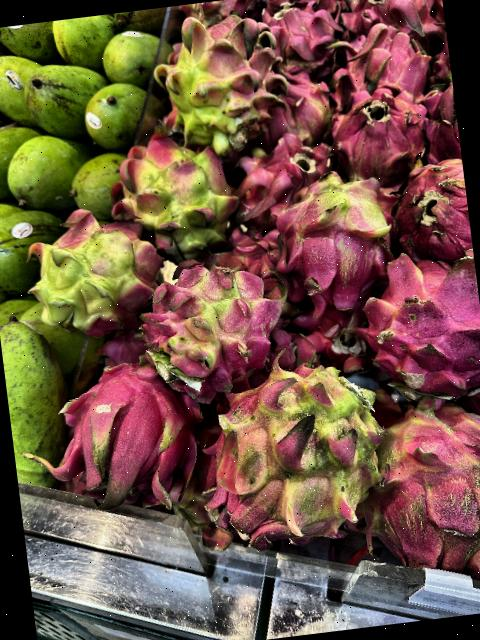buah-naga-belum-matang: (182, 341, 404, 566), (124, 232, 293, 391), (358, 384, 480, 587), (153, 7, 294, 149), (15, 204, 168, 332), (276, 162, 398, 306), (104, 128, 238, 257), (262, 67, 333, 148)
buah-naga-matang: (49, 350, 202, 512), (350, 238, 480, 406), (324, 73, 436, 188), (223, 124, 343, 219), (384, 149, 474, 267), (257, 0, 346, 84), (330, 22, 426, 98), (334, 0, 442, 47), (419, 80, 461, 158), (183, 0, 263, 24)
